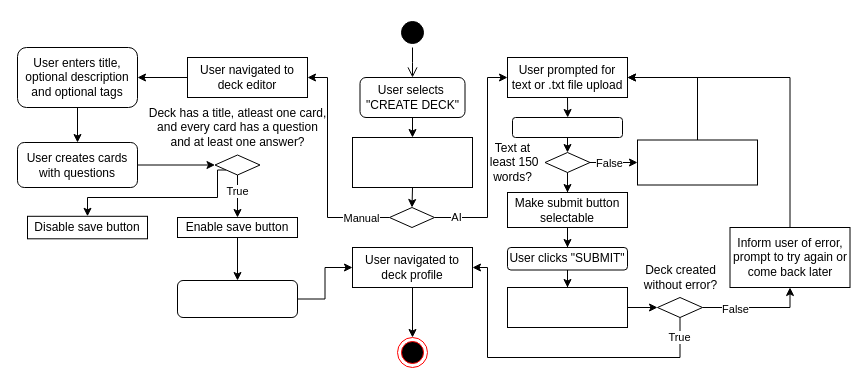
Some shapes in this 868 by 385 pixel diagram are drawn without their labels. Each missing label, with the centre of its shape:
Inform user that text is too short to create deck with AI: [697,162]
User clicks "SAVE DECK": [237,299]
User informed to wait while deck is created: [567,307]
User prompted for AI deck, or manual deck creation: [412,162]
User provides text: [567,127]
